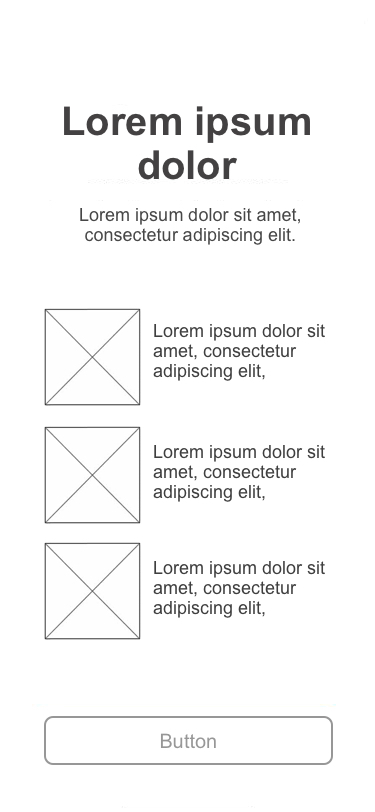Image: (45, 308, 142, 407), (45, 426, 142, 524), (45, 543, 142, 641)
Text: (64, 106, 311, 182), (153, 322, 326, 382), (153, 444, 326, 503), (153, 561, 326, 619), (80, 208, 301, 247)
TextButton: (45, 716, 334, 766)
